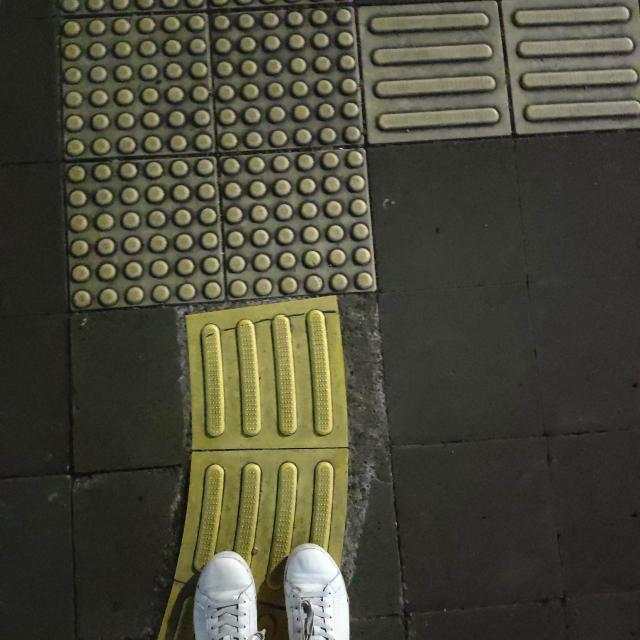kanan: (94, 0, 573, 379)
